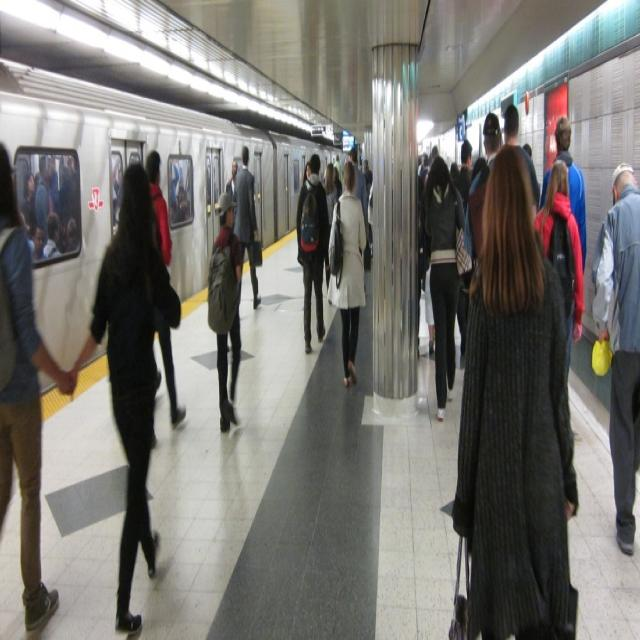body: (2, 99, 538, 257), (450, 140, 580, 639), (66, 161, 182, 634), (0, 140, 75, 634), (592, 159, 640, 558), (420, 153, 472, 423), (538, 114, 587, 381), (533, 157, 585, 387), (145, 149, 187, 430), (206, 188, 244, 436), (326, 159, 367, 388), (296, 151, 331, 355), (232, 144, 263, 311), (420, 259, 438, 367), (225, 158, 239, 204)
